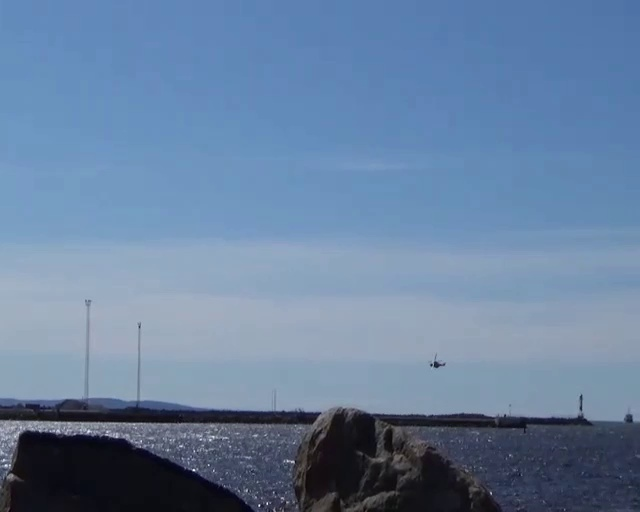HELICOPTER: (428, 352, 446, 368)
